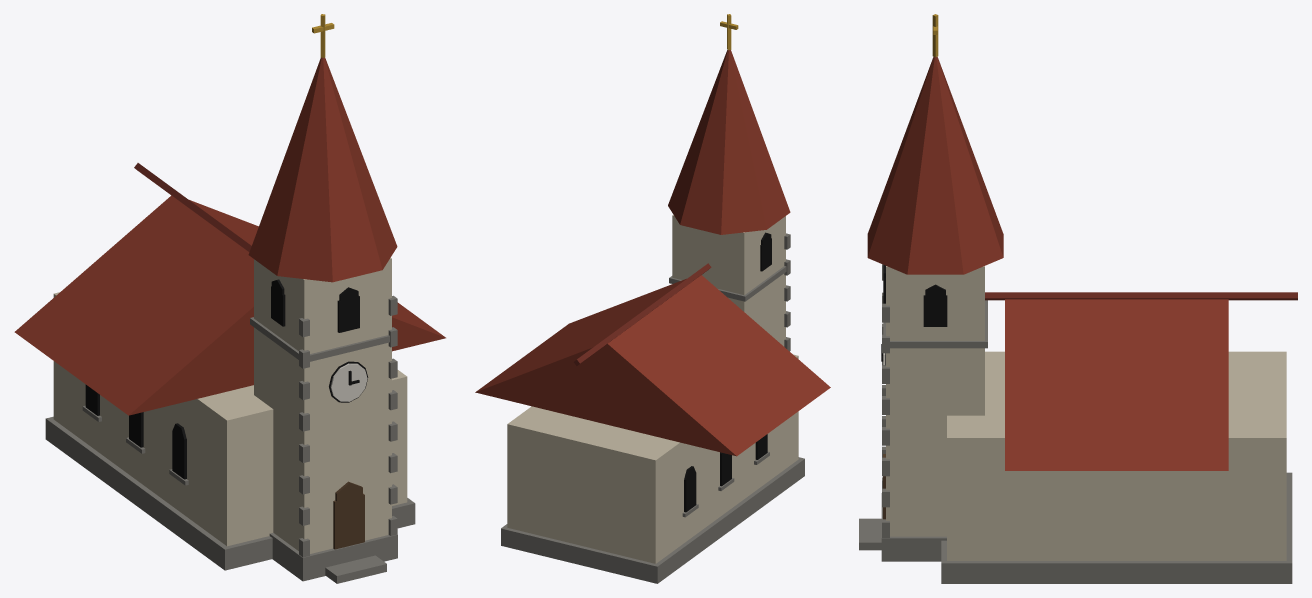
Rendered from church.glb.
The picture shows the model from 3 angles, left to right: view 1: azimuth 30°, elevation 25°; view 2: azimuth 150°, elevation 25°; view 3: azimuth 270°, elevation 25°; orthographic projection. The views are drawn at different scales.
Parts seen in each view (by area): view 1: church; view 2: church; view 3: church.
Part boxes in pixels (box(x1,y1,x2,y2)): church: box(14, 14, 445, 583); church: box(475, 14, 830, 583); church: box(859, 14, 1297, 583).
Bounding box in the file's own units: 6.35 × 10.2 × 7.75.
